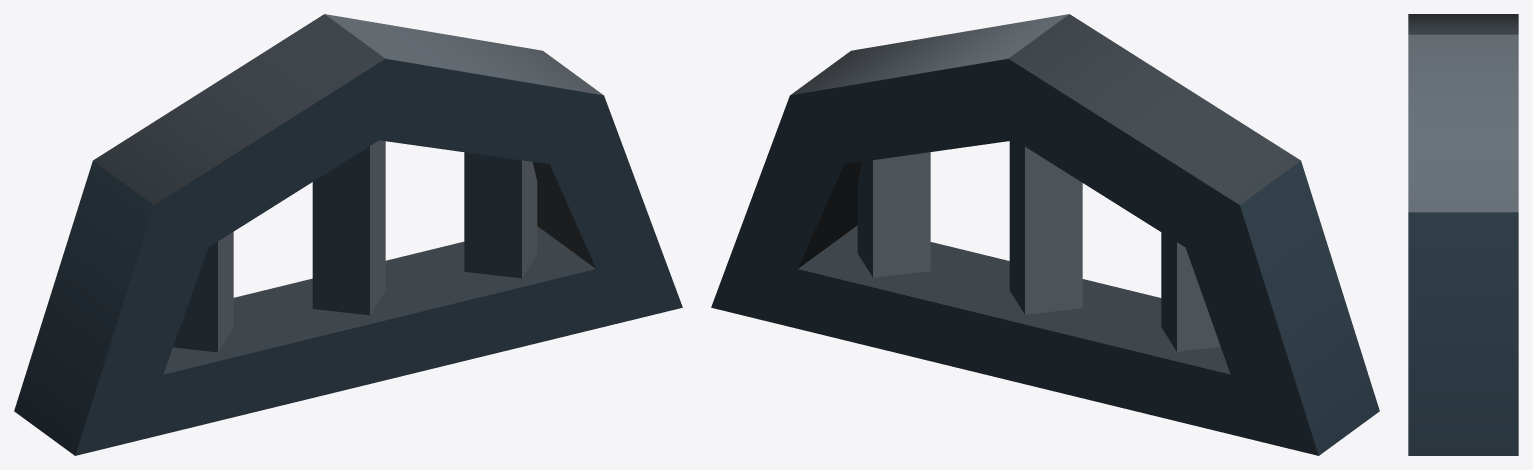
File: jail_bars_arch_top.fbx
3 renders of one model, left to right at view 1: azimuth 30°, elevation 25°; view 2: azimuth 150°, elevation 25°; view 3: azimuth 270°, elevation 25°, orthographic. The views are drawn at different scales.
Parts seen in each view (by area): view 1: jail_bars_arch_top; view 2: jail_bars_arch_top; view 3: jail_bars_arch_top.
Boxes of the visible parts, <box> form: jail_bars_arch_top: <box>14,14,682,455</box>; jail_bars_arch_top: <box>711,14,1379,455</box>; jail_bars_arch_top: <box>1408,14,1518,455</box>.
Size of the model in its own units: 100 by 50.55 by 17.42.
